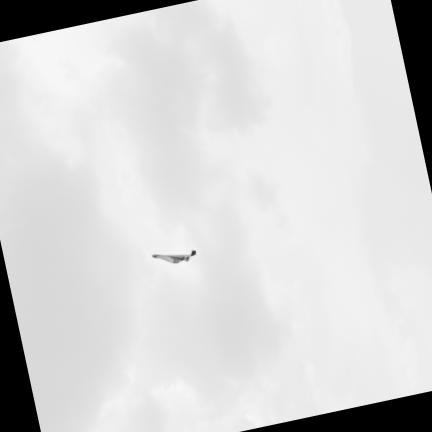Shahed: (153, 249, 195, 262)
